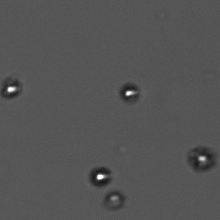Living Cell: (189, 147, 215, 172), (89, 166, 113, 187), (119, 82, 140, 104), (103, 190, 125, 211), (2, 79, 24, 99)
